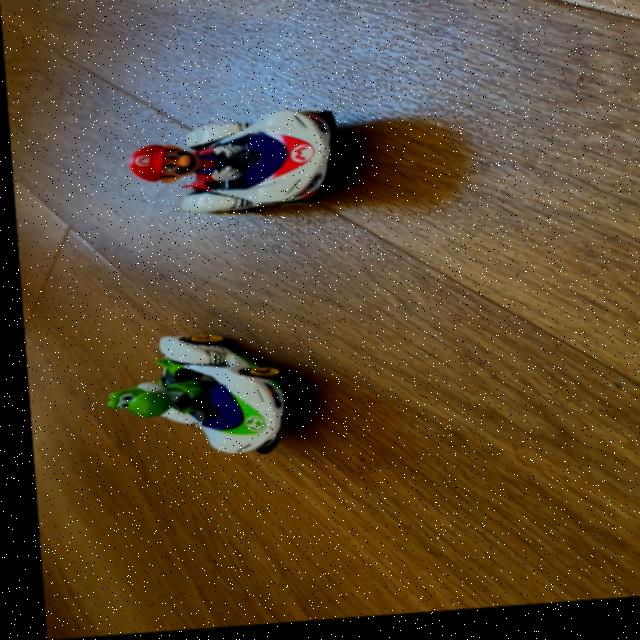mario: (108, 109, 352, 233)
yoshi: (85, 322, 303, 476)
